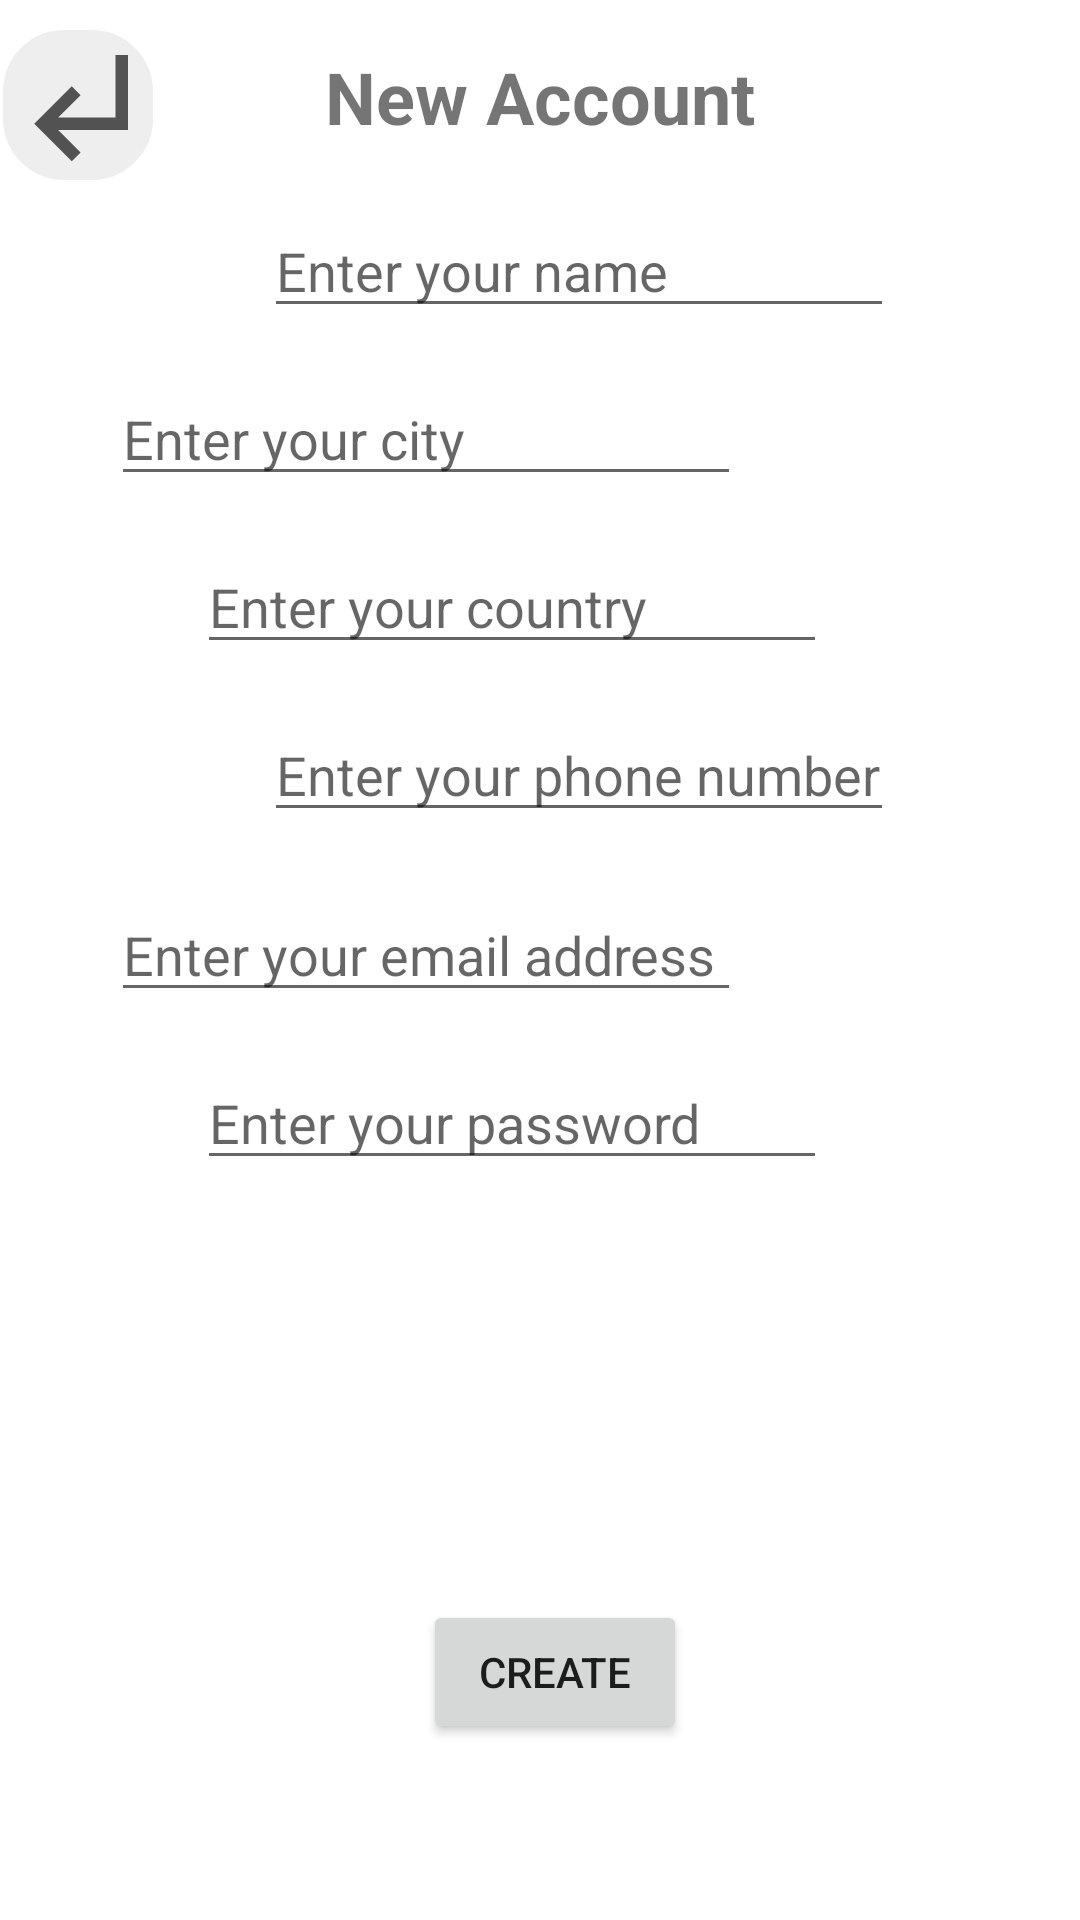

Icons on this 1080w x 1920h Android screen, each with its box as bbox=(x1, y1, x2, y2):
subdirectory arrow left: bbox=(3, 30, 153, 180)
